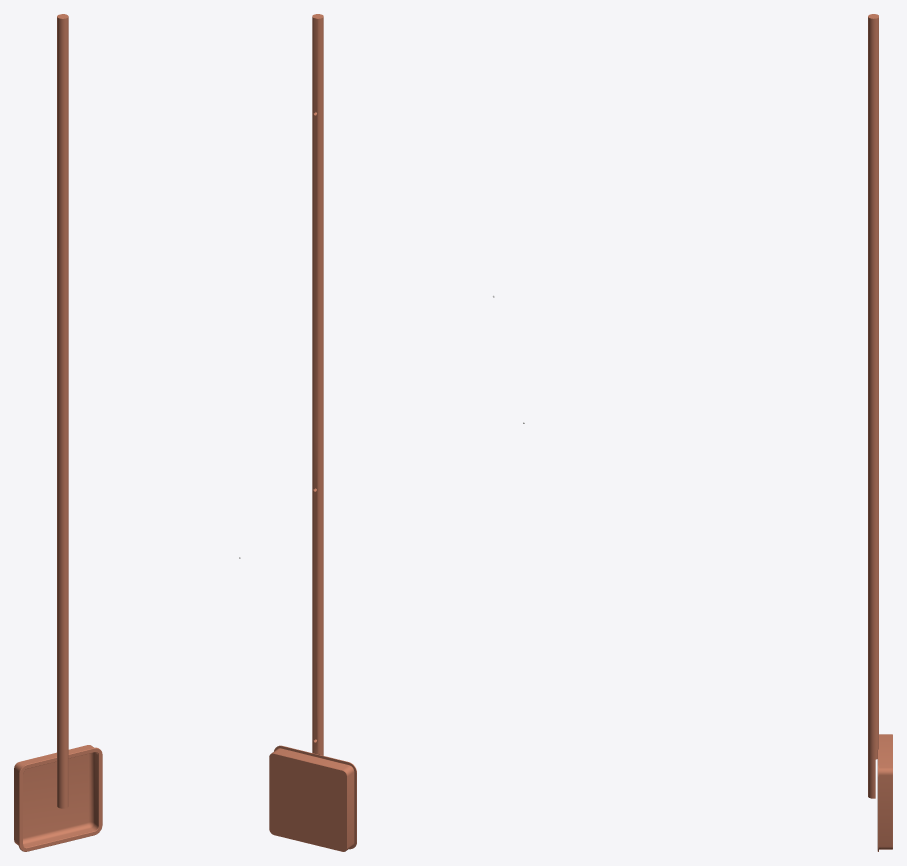
File: viora matt r gold.glb
3 renders of one model, left to right at view 1: azimuth 30°, elevation 25°; view 2: azimuth 150°, elevation 25°; view 3: azimuth 270°, elevation 25°, orthographic.
Visible parts, largest first — view 1: CB_VIORA_720MM_; view 2: CB_VIORA_720MM_; view 3: CB_VIORA_720MM_.
Part boxes in pixels (x1,y1,x2,y2): CB_VIORA_720MM_: (14, 14, 102, 851); CB_VIORA_720MM_: (269, 14, 356, 851); CB_VIORA_720MM_: (868, 14, 892, 851).
Bounding box in the file's own units: 1.33 × 12.67 × 5.19.
